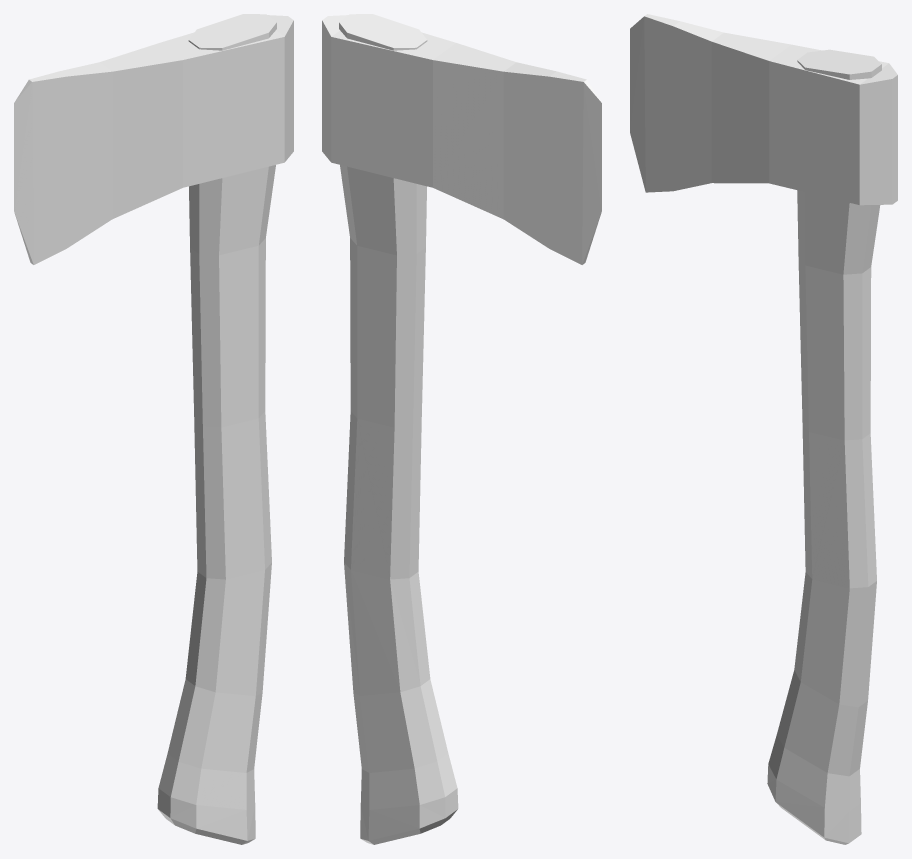
The model's file is Tool_Axe_01.glb.
3 views of the same model, side by side, from view 1: azimuth 30°, elevation 25°; view 2: azimuth 150°, elevation 25°; view 3: azimuth 330°, elevation 25° (orthographic). The views are drawn at different scales.
Parts seen in each view (by area): view 1: Tool_Axe_01; view 2: Tool_Axe_01; view 3: Tool_Axe_01.
Part boxes in pixels (box(x1,y1,x2,y2)): Tool_Axe_01: box(14, 14, 293, 844); Tool_Axe_01: box(322, 14, 601, 844); Tool_Axe_01: box(630, 14, 897, 844).
Bounding box in the file's own units: 0.2468 × 0.6939 × 0.0474.
Materials: 1 (1 with a texture image).
